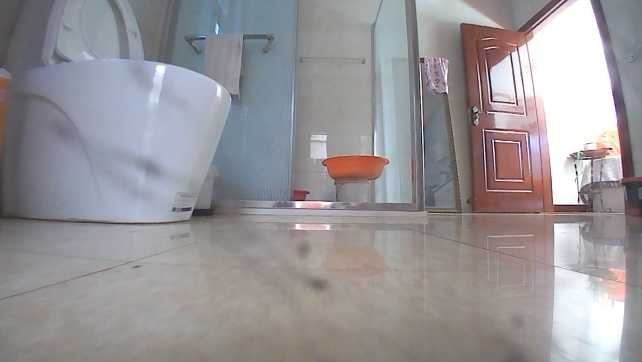door_anno: (460, 20, 554, 214)
toilet: (0, 0, 233, 225)
